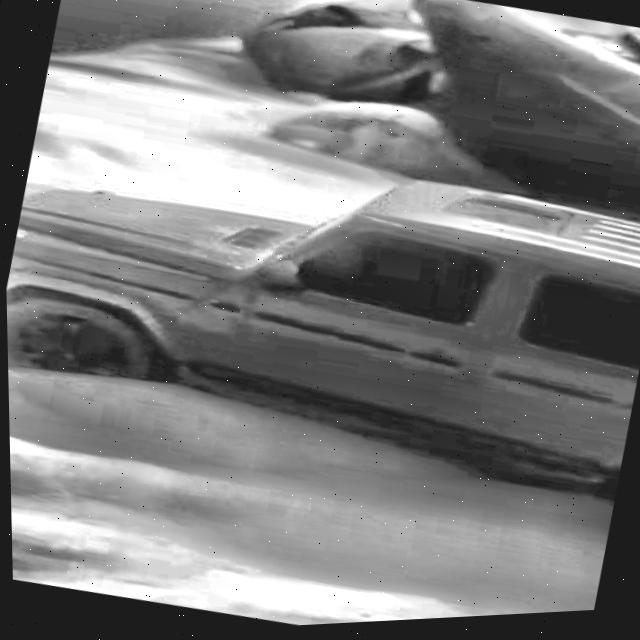light_vehicle: (2, 84, 640, 568)
